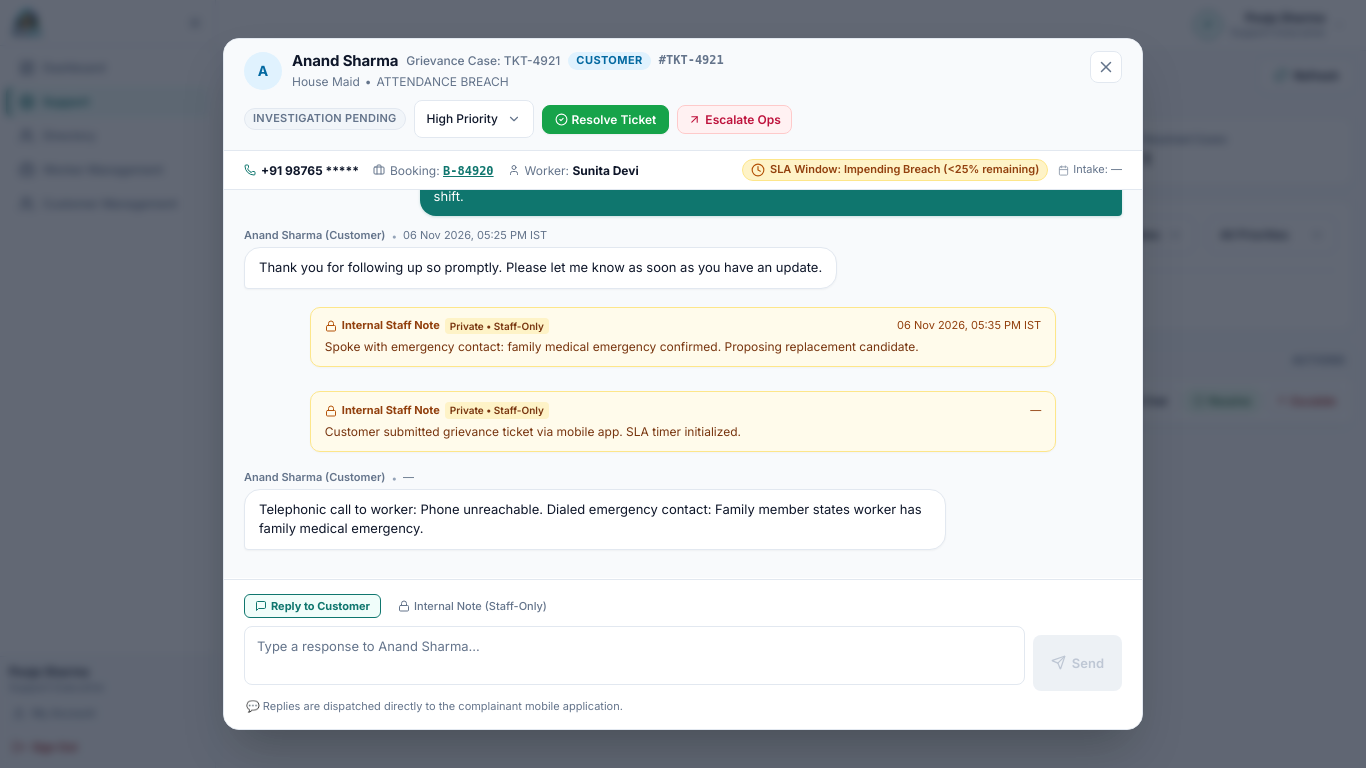
Test: Support Ticket Detail Modal Close Functionality › closes ticket detail modal when clicking the top-right "x" button even when opened with ticketId URL param
(page scrolled)
What coordinates should you click on to do the following:
click the button named "Close ticket modal"
I would click on:
 (1106, 67)
Its box is [1090,51,1122,83].
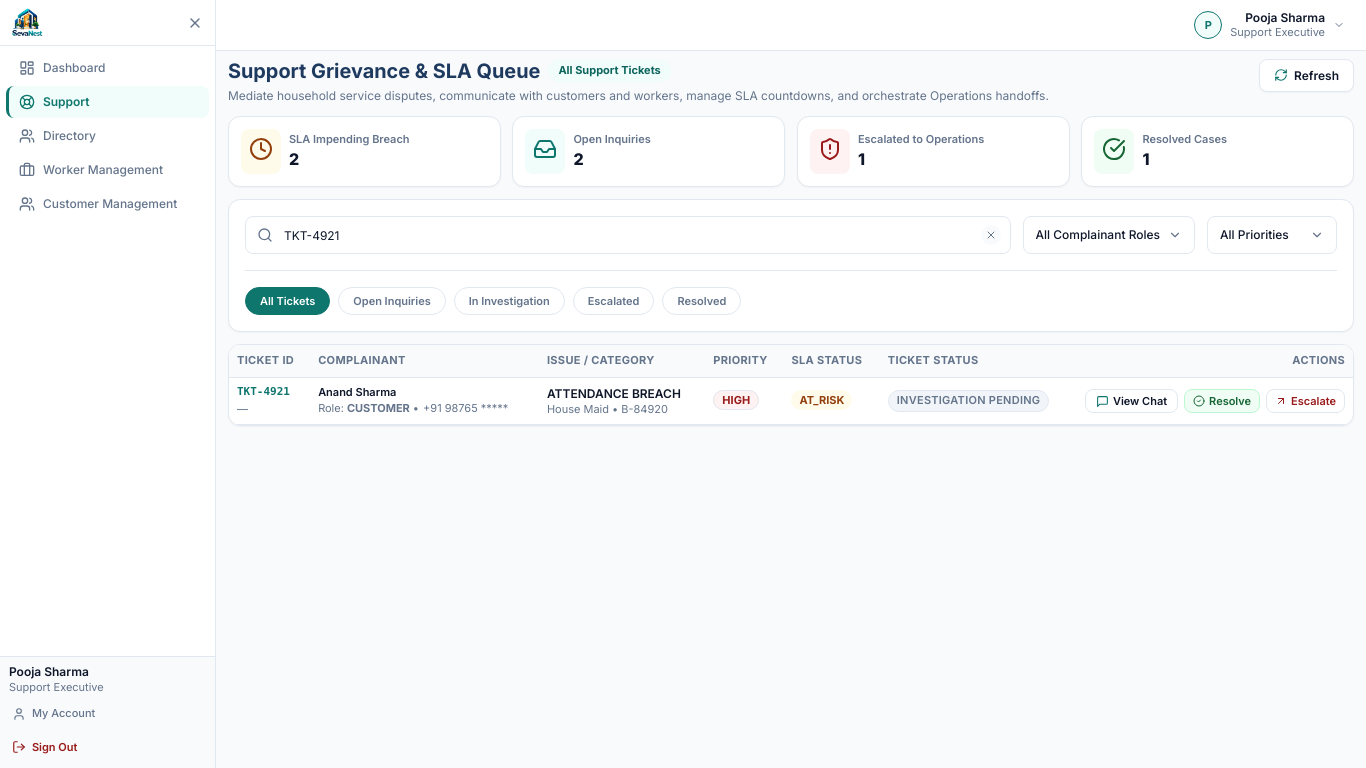
Result: the dialog is gone
